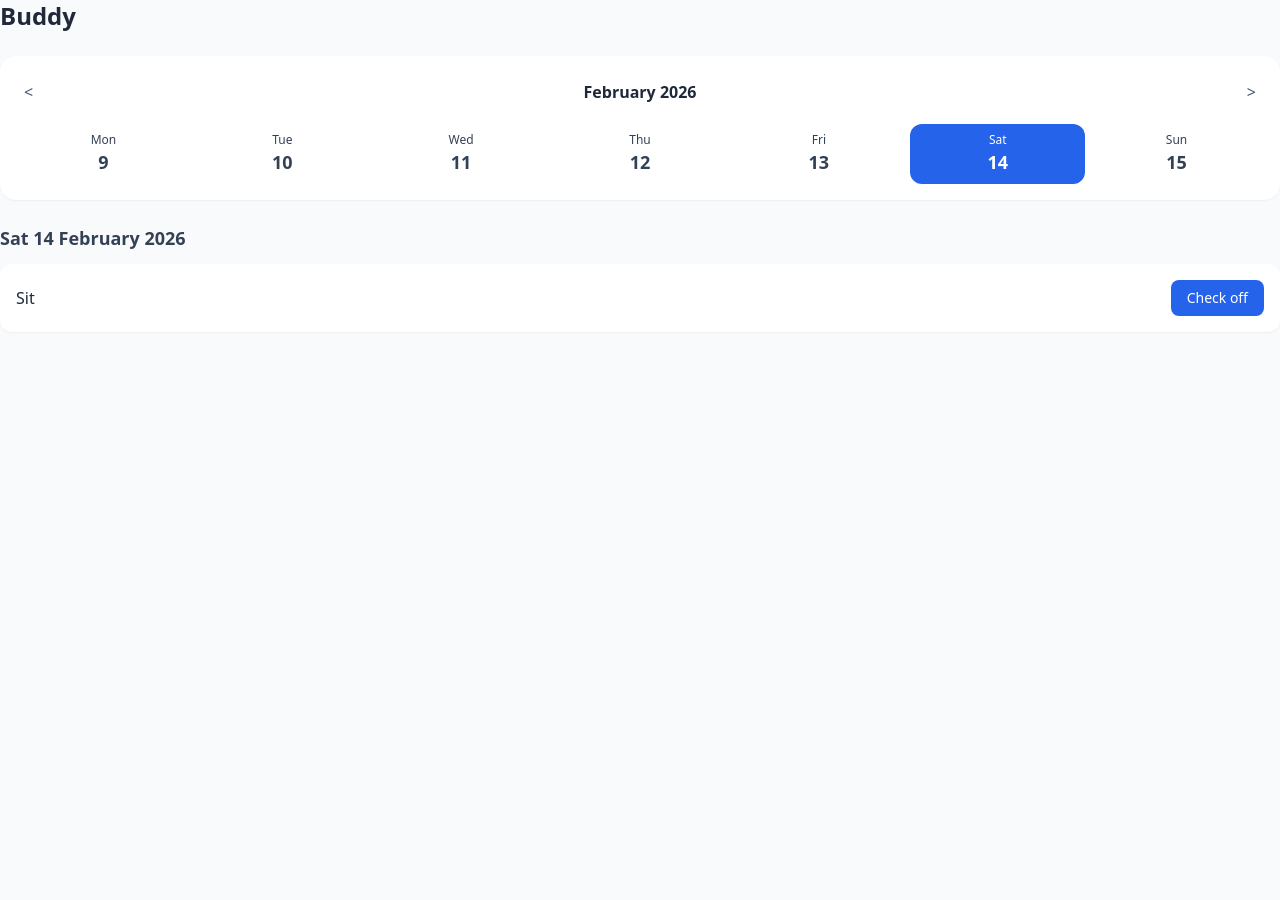
Progress › score selector only visible when Completed
The image size is (1280, 900).
Click the button "Check off".
click(1217, 298)  # box [1171,280,1264,316]
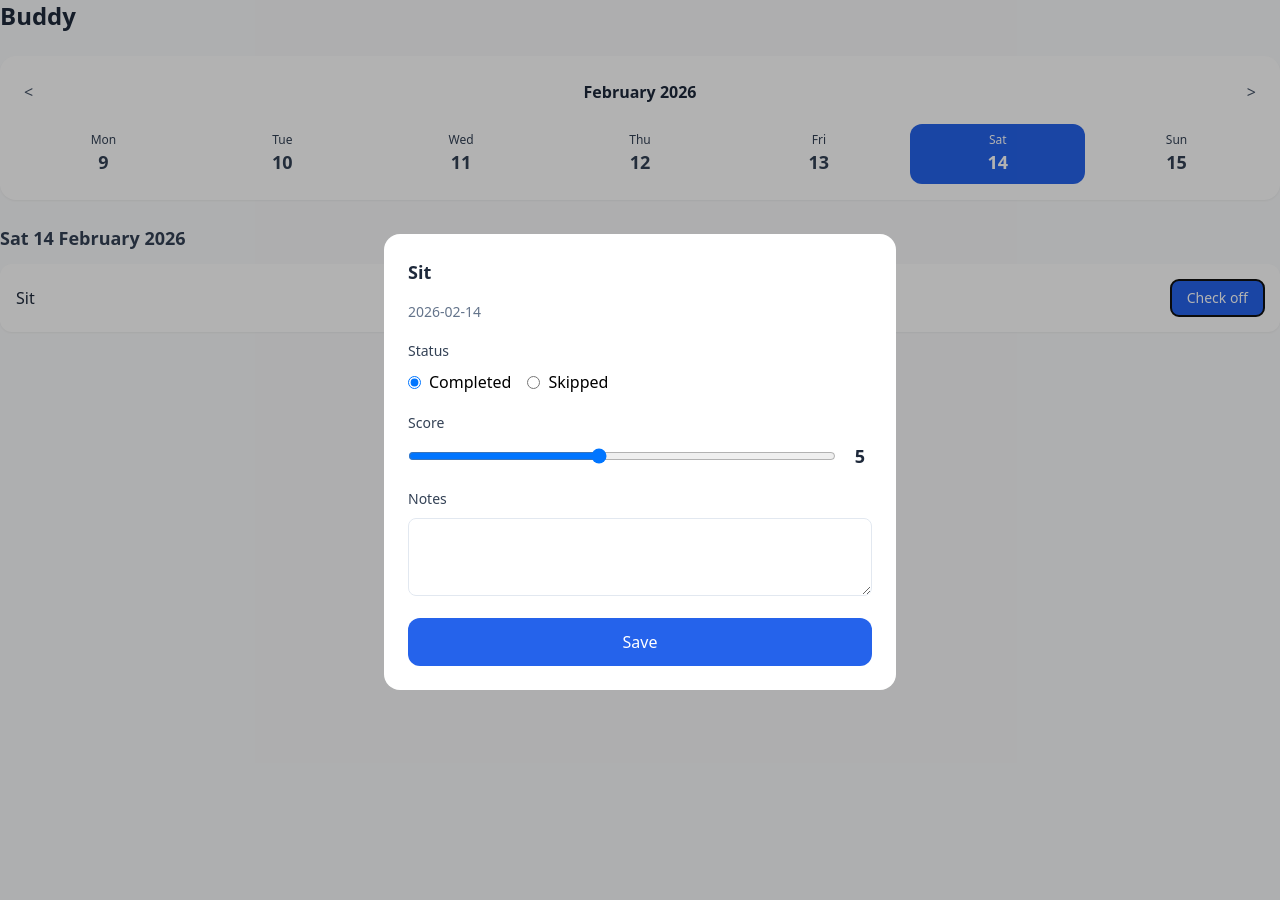
Now the slider labelled "Score" is shown, box [408,448,836,464]
# Switch to Skipped
Click the radio button labelled "Skipped".
click(534, 382)  # box [527,376,540,388]
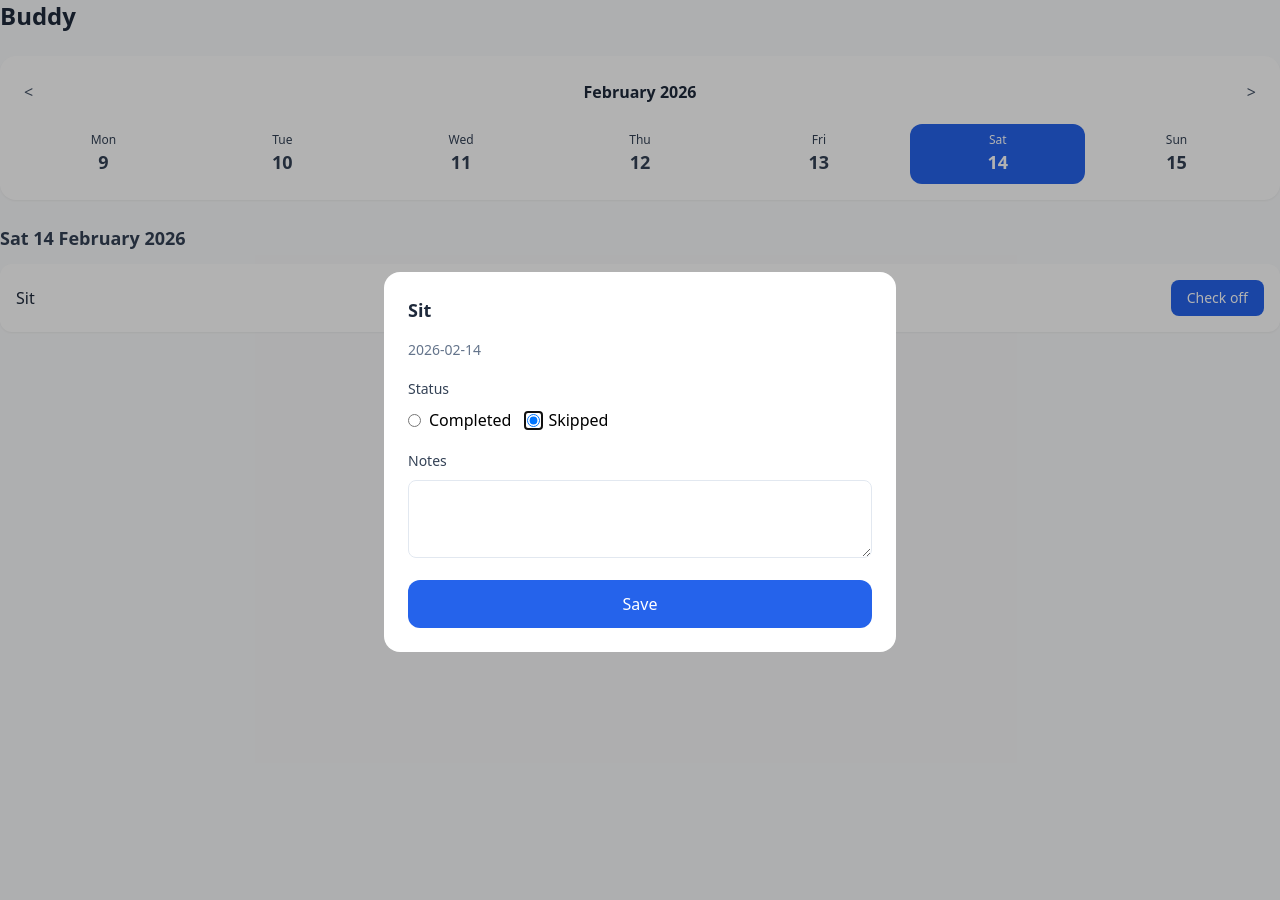
Now the label "Score" is gone
